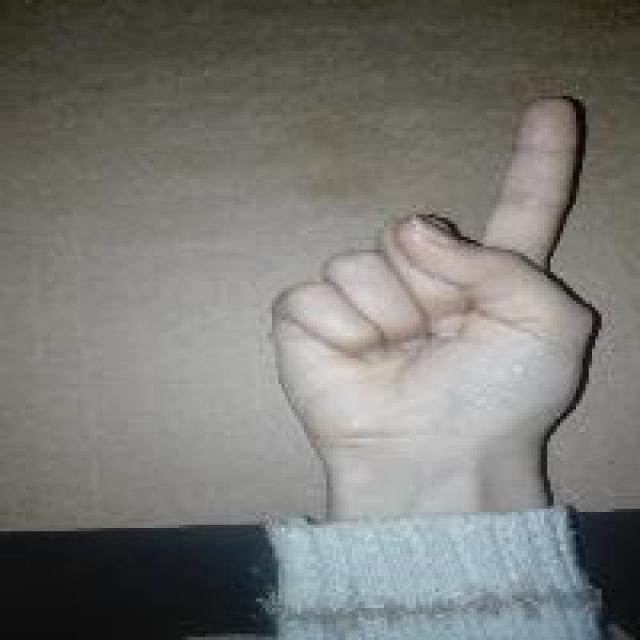Z: (267, 96, 603, 448)
